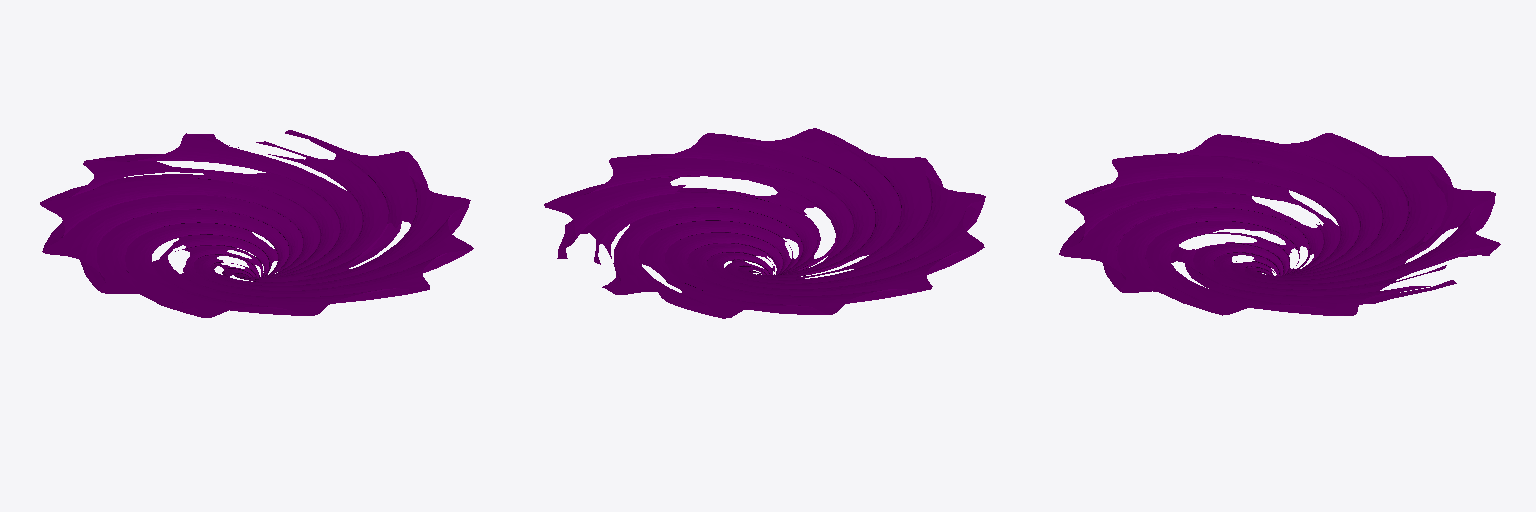
File: IntakeFloor1.obj
3 renders of one model, left to right at view 1: azimuth 30°, elevation 25°; view 2: azimuth 150°, elevation 25°; view 3: azimuth 270°, elevation 25°, orthographic.
Visible parts, largest first — view 1: Meshpart1; view 2: Meshpart1; view 3: Meshpart1.
Part boxes in pixels (bbox=[...]): Meshpart1: bbox=[40, 130, 473, 317]; Meshpart1: bbox=[544, 128, 985, 318]; Meshpart1: bbox=[1059, 133, 1500, 315].
Bounding box in the file's own units: 10.48 × 1.7 × 10.64.